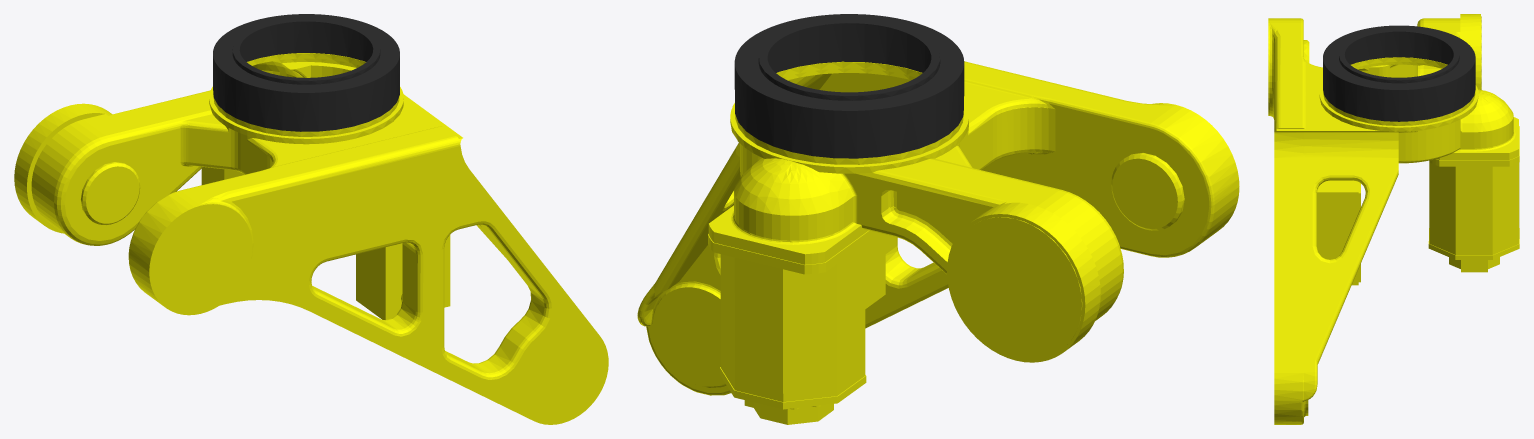
3 views of the same model, side by side, from view 1: azimuth 30°, elevation 25°; view 2: azimuth 150°, elevation 25°; view 3: azimuth 270°, elevation 25° (orthographic). The views are drawn at different scales.
Visible parts, largest first — view 1: node; view 2: node; view 3: node.
Part boxes in pixels (bbox=[...]): node: bbox=[14, 14, 608, 424]; node: bbox=[637, 14, 1239, 424]; node: bbox=[1268, 14, 1519, 424].
Bounding box in the file's own units: 642 × 474 × 366.
